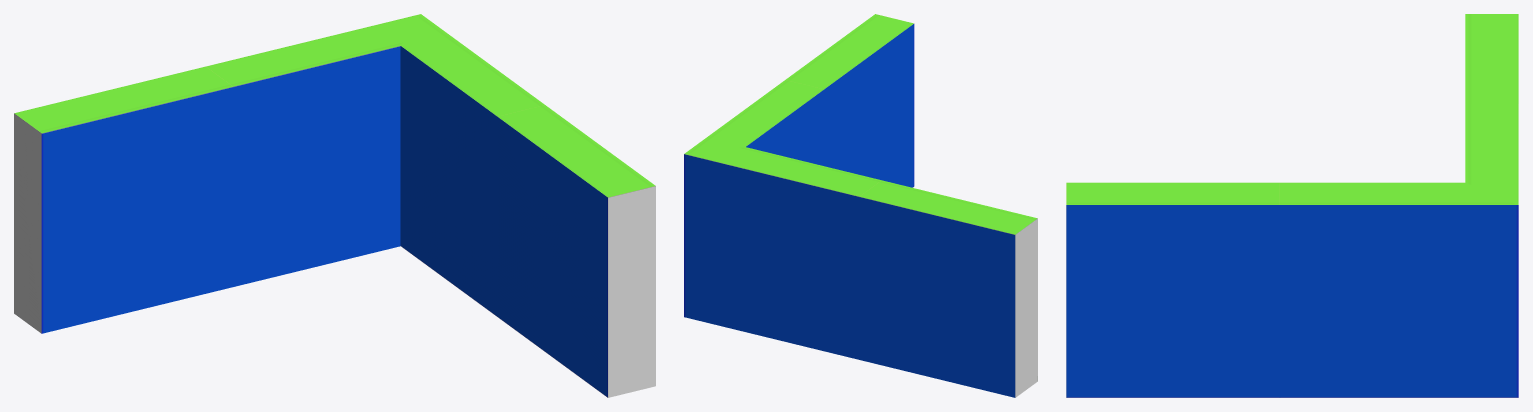
The model's file is MK_MK_Wall_Corner_In_Half_D.fbx.
3 renders of one model, left to right at view 1: azimuth 30°, elevation 25°; view 2: azimuth 150°, elevation 25°; view 3: azimuth 270°, elevation 25°, orthographic. The views are drawn at different scales.
Visible parts, largest first — view 1: MK_Wall_Corner_In_Half_D; view 2: MK_Wall_Corner_In_Half_D; view 3: MK_Wall_Corner_In_Half_D.
Part boxes in pixels (left/top/right/bottom): MK_Wall_Corner_In_Half_D: left=14, top=14, right=655, bottom=397; MK_Wall_Corner_In_Half_D: left=684, top=14, right=1037, bottom=397; MK_Wall_Corner_In_Half_D: left=1066, top=14, right=1518, bottom=397.
Bounding box in the file's own units: 191 × 90 × 191.
Materials: 1 (1 with a texture image).
